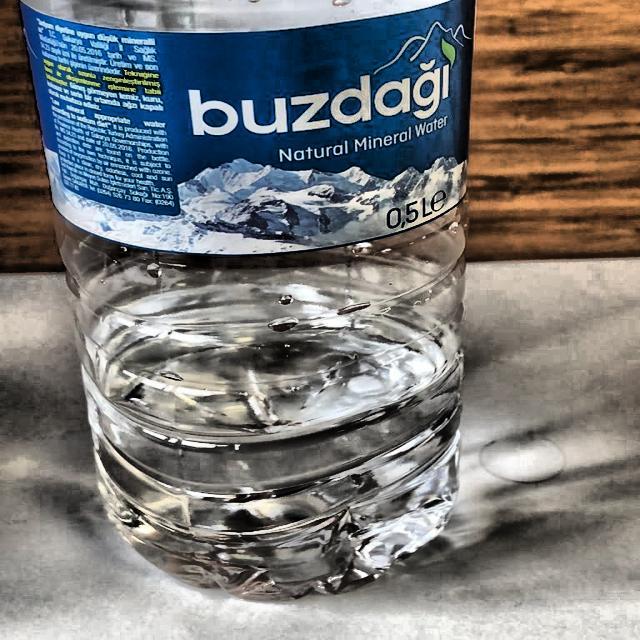plastic: (0, 0, 485, 586)
